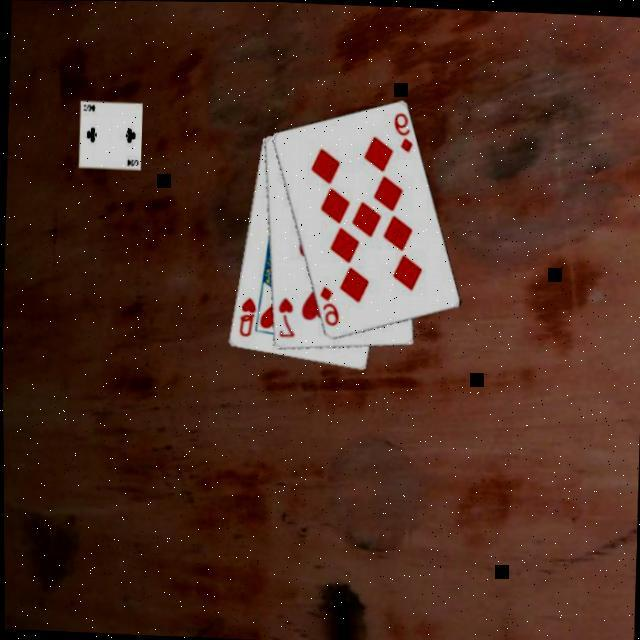7H: (272, 291, 296, 338)
9D: (312, 279, 340, 326), (388, 106, 416, 153)
QH: (233, 291, 257, 338)
